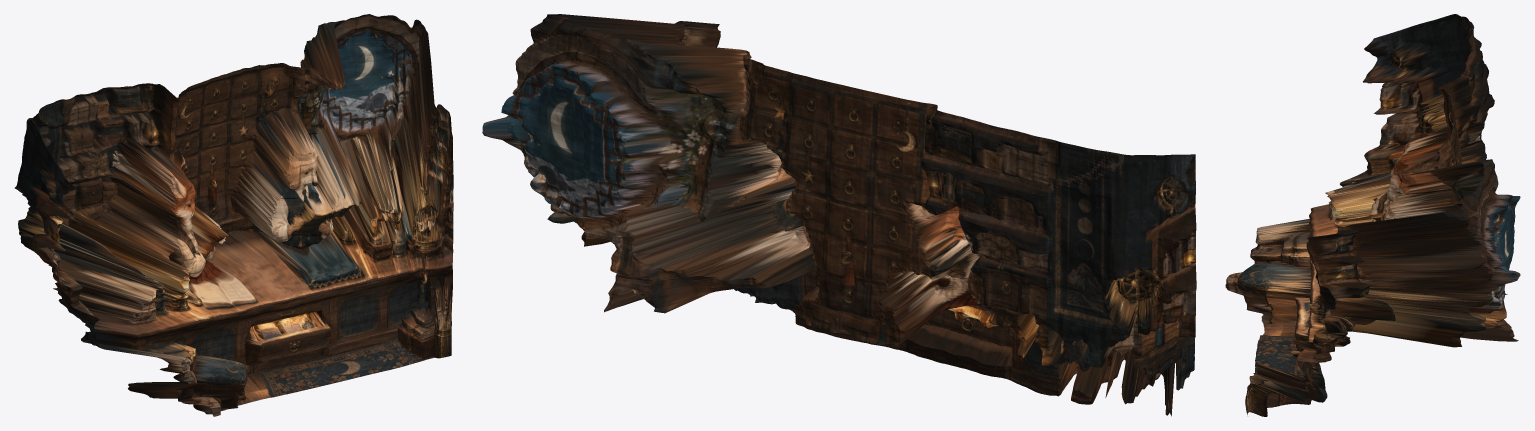
The model's file is office-surface.glb.
The picture shows the model from 3 angles, left to right: view 1: azimuth 30°, elevation 25°; view 2: azimuth 150°, elevation 25°; view 3: azimuth 270°, elevation 25°; orthographic projection. The views are drawn at different scales.
Visible parts, largest first — view 1: geometry_0; view 2: geometry_0; view 3: geometry_0.
Boxes of the visible parts, <box> form: geometry_0: <box>14,14,453,416</box>; geometry_0: <box>482,14,1196,416</box>; geometry_0: <box>1225,14,1520,416</box>.
Size of the model in its own units: 5.41 by 3.09 by 3.18.
Materials: 1 (1 with a texture image).
